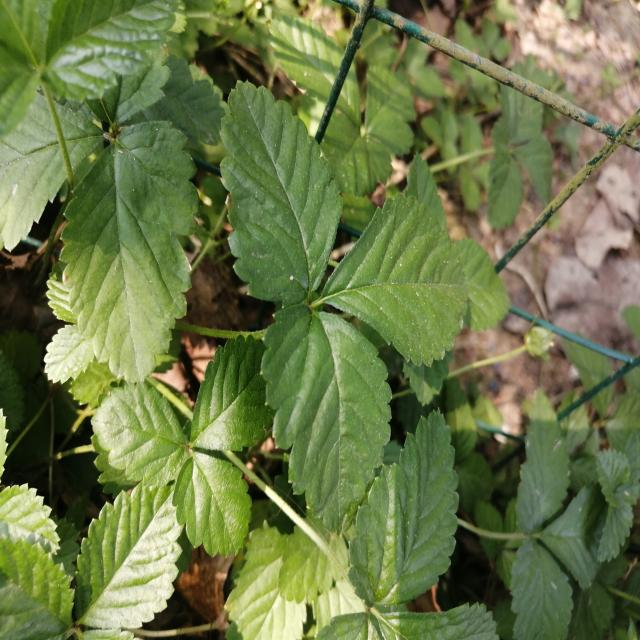Mock_strawberry: (80, 330, 326, 565)
